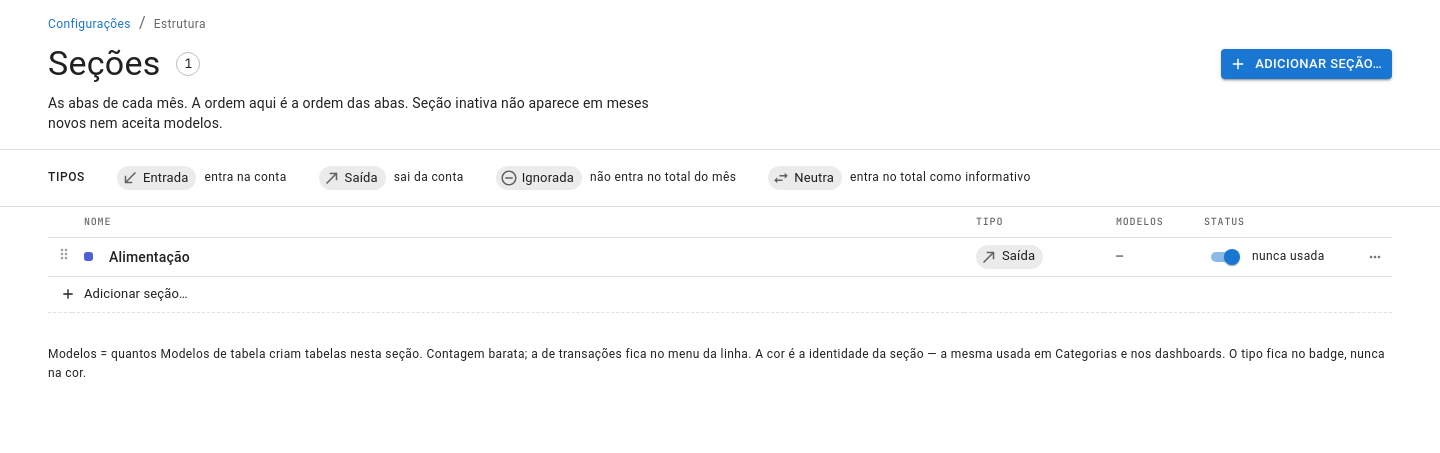
Test: SectionsManager › não renderiza itens mortos no menu da linha (viewUsage presente; sem merge/duplicate — D1/§9 P8)
Click the button named "Ações desta linha: Alimentação" at [1375, 256], box [1362,244,1388,270]
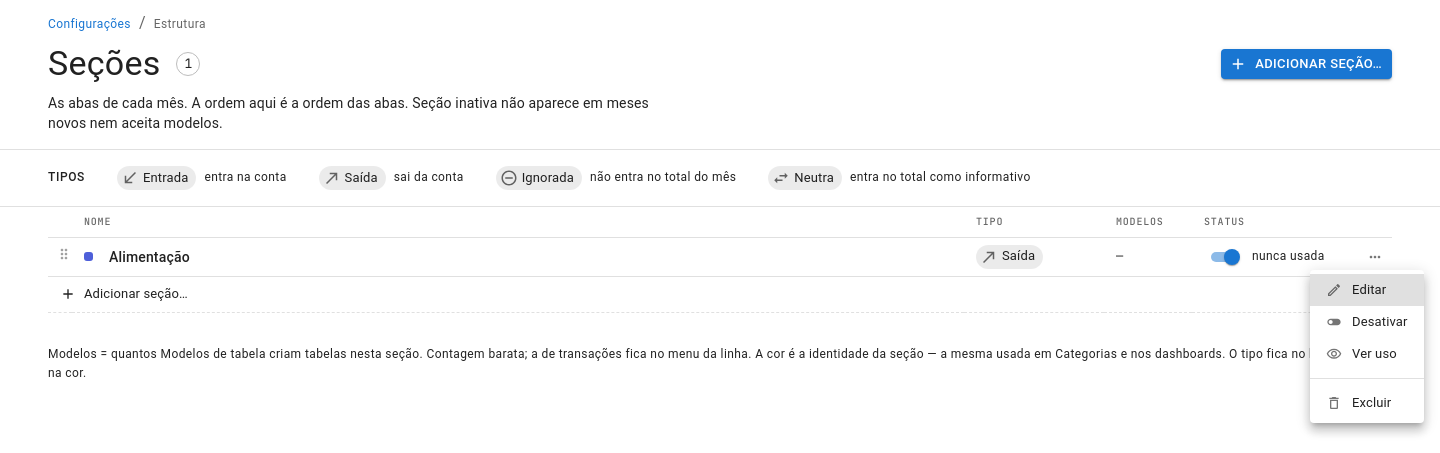
Result: the menu item "Ver uso" is shown at [1326,346,1397,362]
